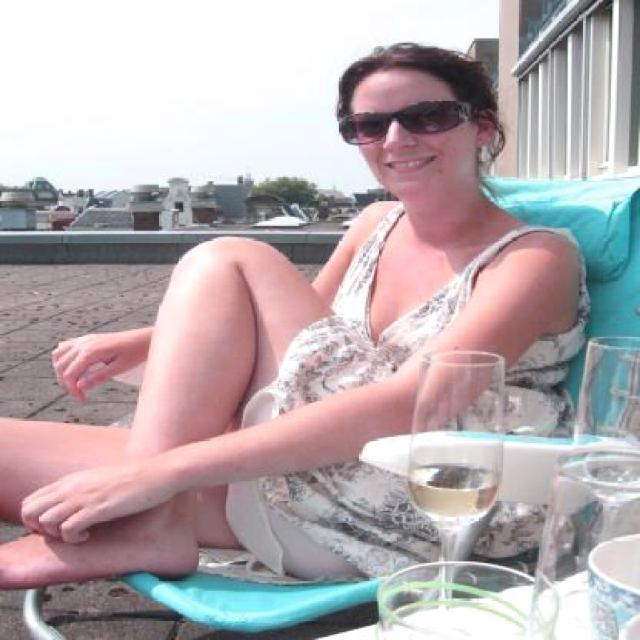glasses: (335, 89, 479, 131)
hand_noglove: (7, 446, 145, 556), (344, 94, 467, 184), (40, 317, 135, 405)
head_nohelmet: (337, 39, 480, 90)
person: (1, 37, 573, 589)
